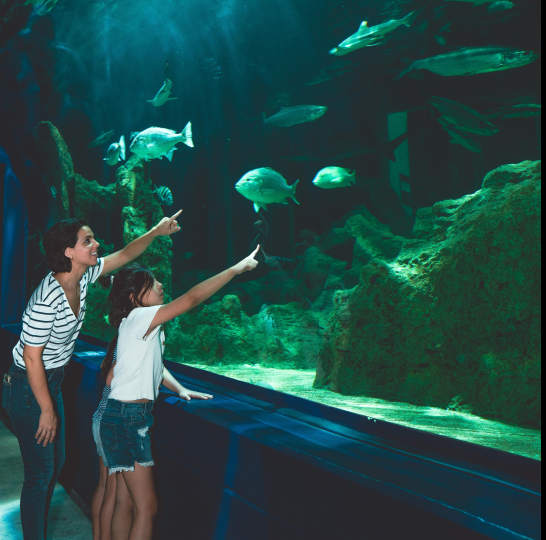fishLarge: (395, 44, 538, 79), (416, 89, 499, 138), (259, 104, 330, 132), (486, 101, 542, 123)
fishRound: (234, 167, 301, 213), (130, 121, 194, 163), (311, 163, 356, 191), (102, 141, 129, 168), (150, 184, 175, 207)
shark: (327, 3, 431, 58), (432, 113, 485, 155), (145, 59, 179, 109)
